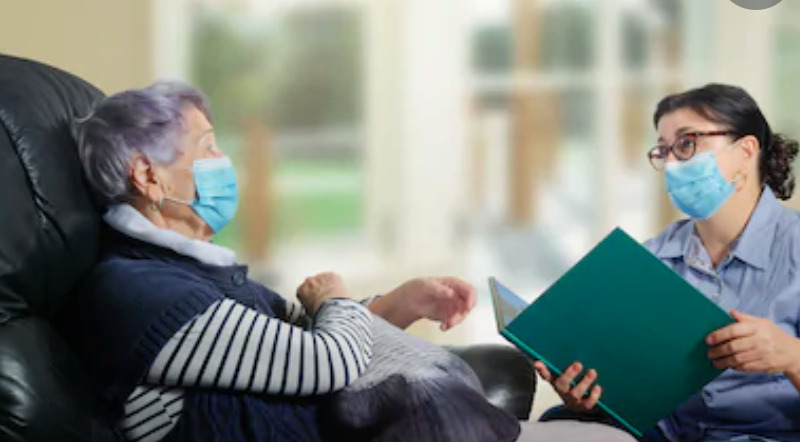Bad: (72, 81, 800, 247)
